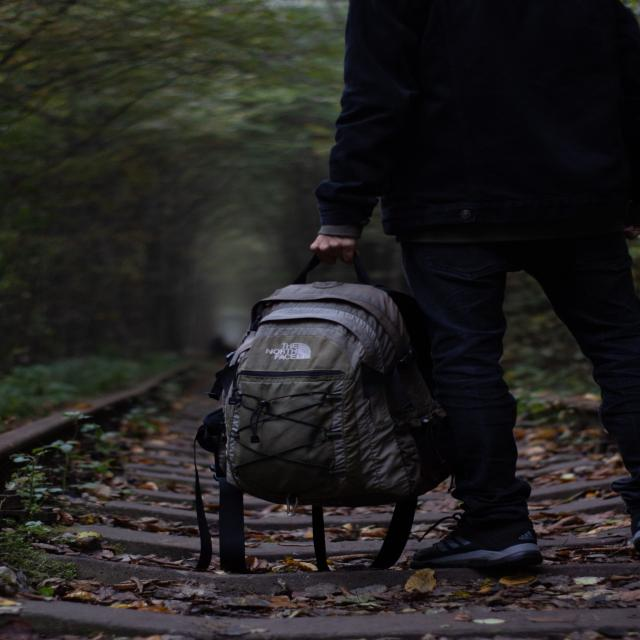backpack: (194, 244, 453, 510)
